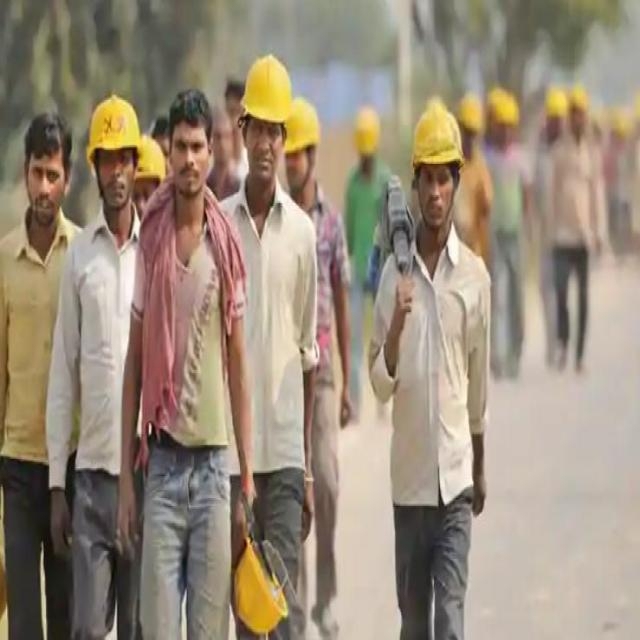Safety-Helmet: (407, 92, 466, 172), (239, 50, 294, 128), (85, 88, 144, 160), (19, 101, 68, 166), (282, 95, 322, 159), (350, 99, 384, 162)
